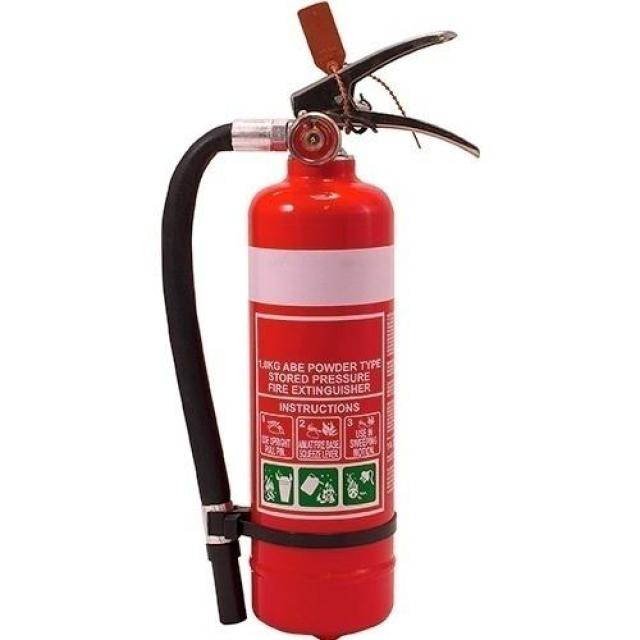fire_extinguisher: (153, 0, 482, 639)
